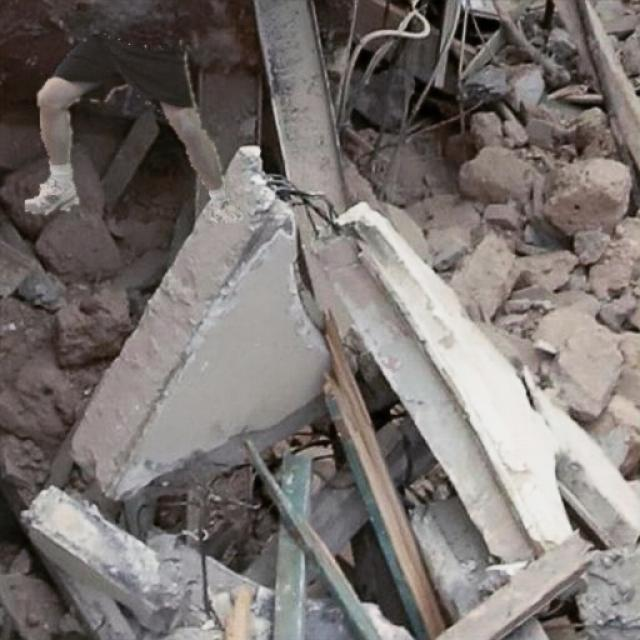Person in Rubble: (25, 34, 243, 222)
